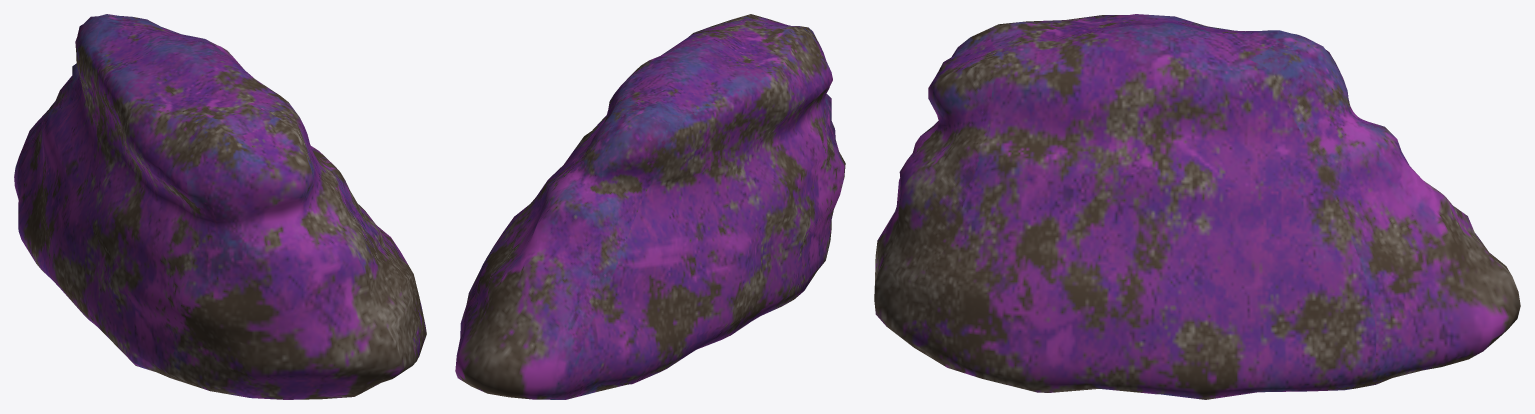
File: Roca1.obj
3 views of the same model, side by side, from view 1: azimuth 30°, elevation 25°; view 2: azimuth 150°, elevation 25°; view 3: azimuth 270°, elevation 25° (orthographic). The views are drawn at different scales.
Parts seen in each view (by area): view 1: Cube.002_Cube.003; view 2: Cube.002_Cube.003; view 3: Cube.002_Cube.003.
Part boxes in pixels (x1,y1,x2,y2): Cube.002_Cube.003: (14, 14, 426, 399); Cube.002_Cube.003: (455, 14, 845, 399); Cube.002_Cube.003: (874, 14, 1520, 399).
Bounding box in the file's own units: 11.34 × 11.58 × 22.33.
1 material, 1 textured.
